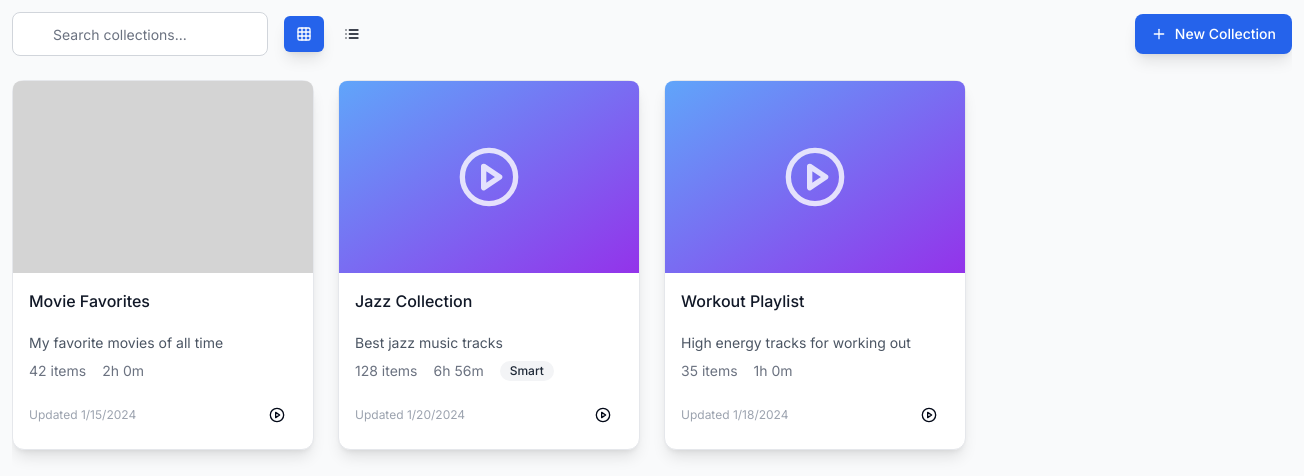
Test: CollectionsManager › filters by description too
Step 1. Type "energy" into the field with placeholder "Search collections..." → (140, 34), box [12,12,268,56]
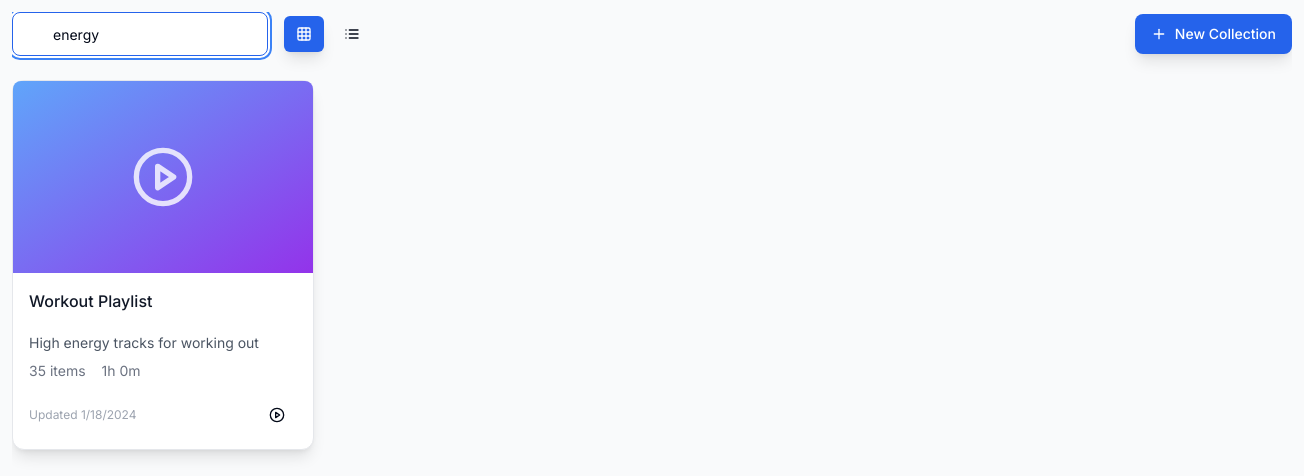
Expected: the heading "Workout Playlist" is shown, [29,289,152,313]
Result: the heading "Movie Favorites" is gone
